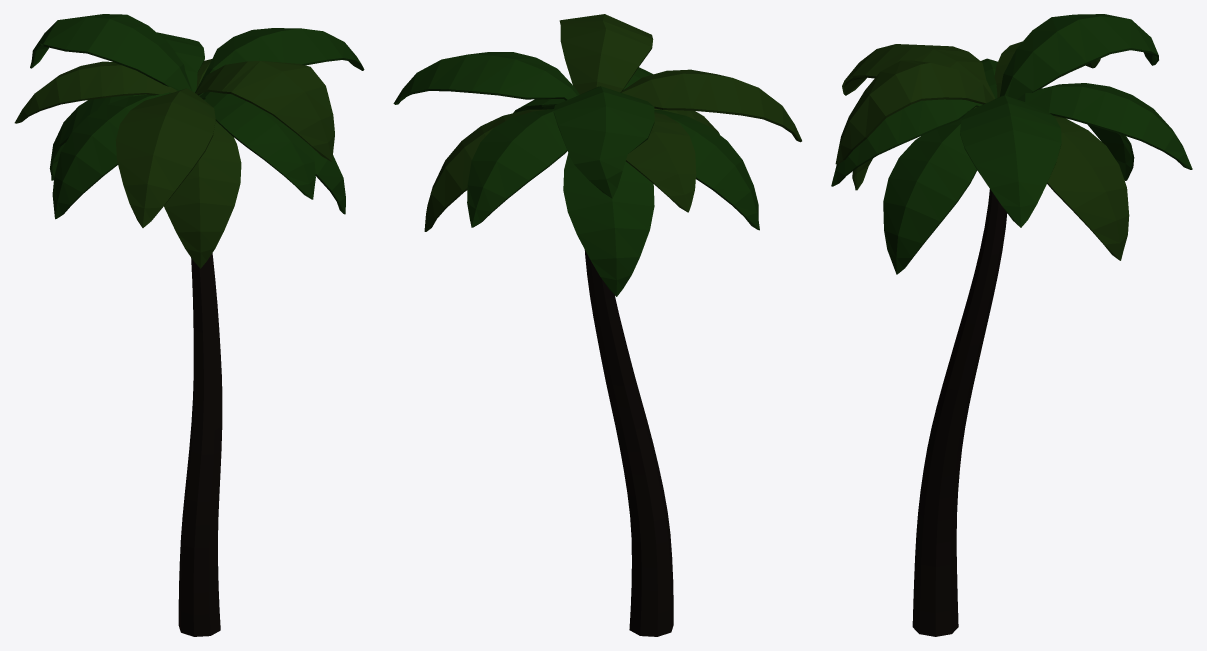
File: palm.FBX
3 renders of one model, left to right at view 1: azimuth 30°, elevation 25°; view 2: azimuth 150°, elevation 25°; view 3: azimuth 270°, elevation 25°, orthographic. The views are drawn at different scales.
Visible parts, largest first — view 1: Palm-tree002; view 2: Palm-tree002; view 3: Palm-tree002.
Boxes of the visible parts, x1,y1,x2,y2 form: Palm-tree002: [14, 14, 364, 636]; Palm-tree002: [393, 14, 801, 636]; Palm-tree002: [831, 14, 1192, 636].
Size of the model in its own units: 6.26 by 10.27 by 5.65.
